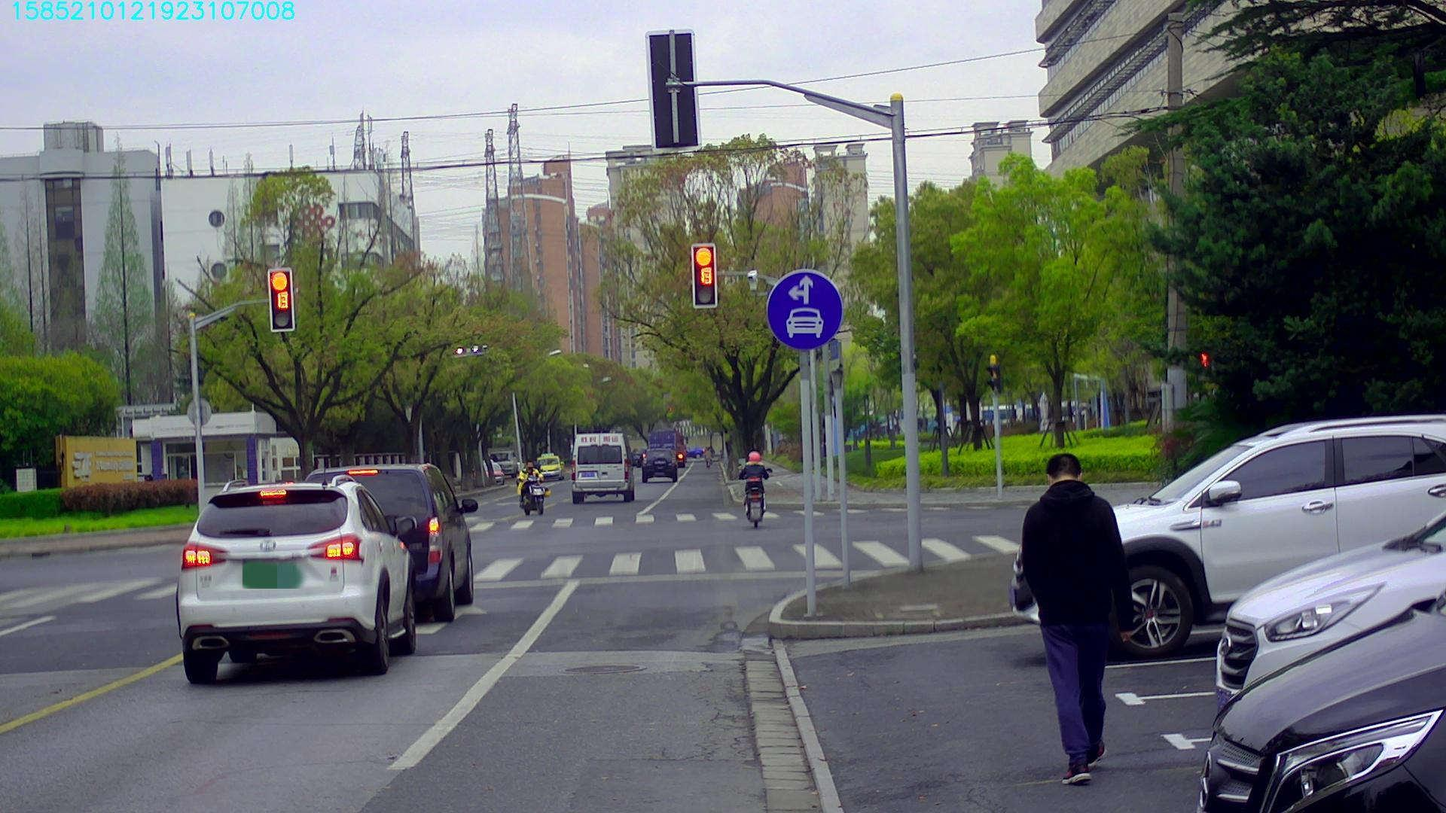red: (268, 269, 293, 330), (692, 244, 715, 306)
